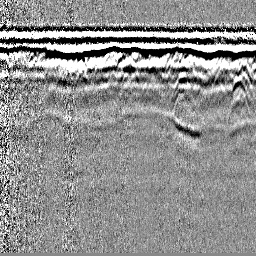cavity: (117, 55, 139, 82)
